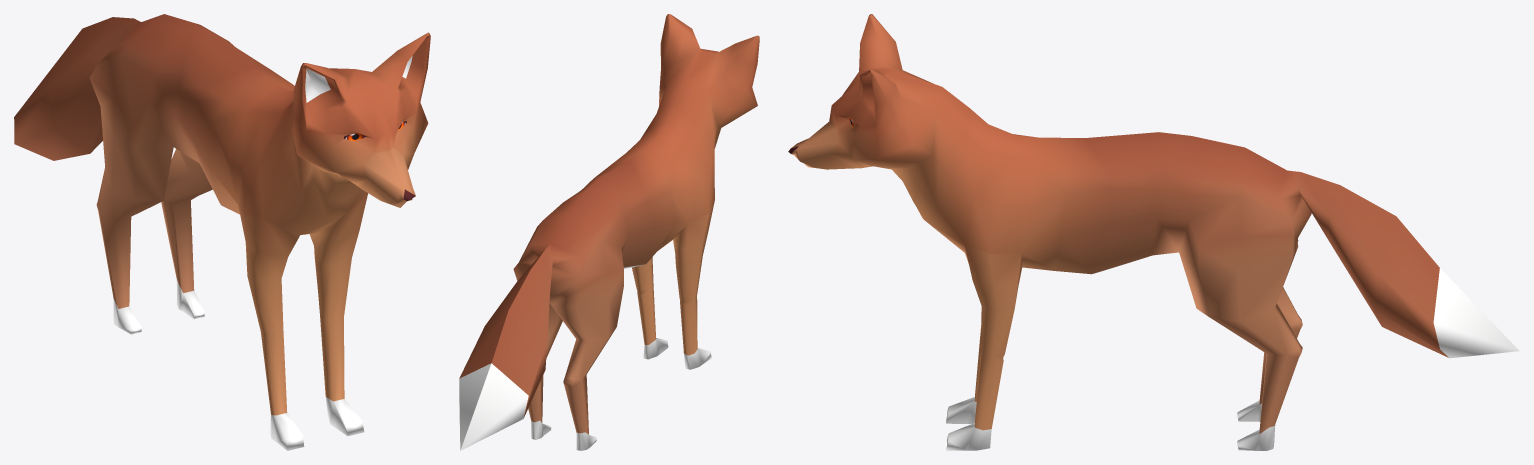
File: Fox01.glb
3 views of the same model, side by side, from view 1: azimuth 30°, elevation 25°; view 2: azimuth 150°, elevation 25°; view 3: azimuth 270°, elevation 25° (orthographic). The views are drawn at different scales.
Parts seen in each view (by area): view 1: Fox01; view 2: Fox01; view 3: Fox01.
Boxes of the visible parts, box(x1,y1,x2,y2) form: Fox01: box(14, 14, 430, 450); Fox01: box(459, 14, 759, 450); Fox01: box(788, 14, 1519, 450).
Size of what is drawn, in the model's own units: 0.2625 by 0.8092 by 1.37.
1 material, 1 textured.
